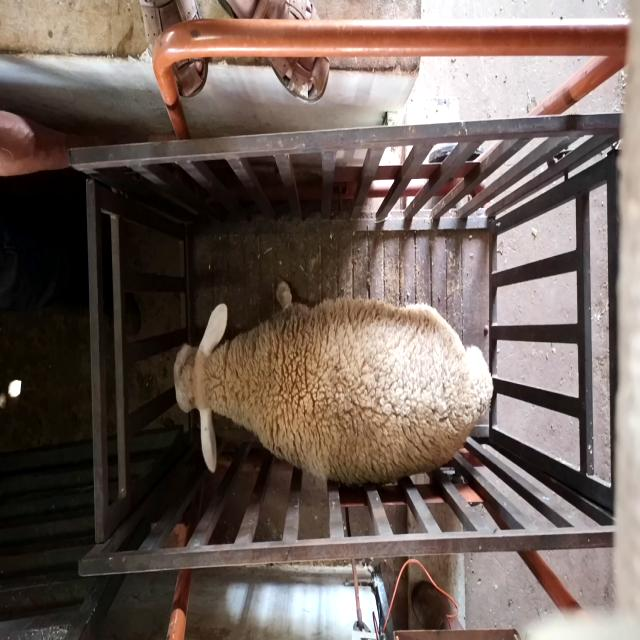sheep: (173, 280, 495, 484)
